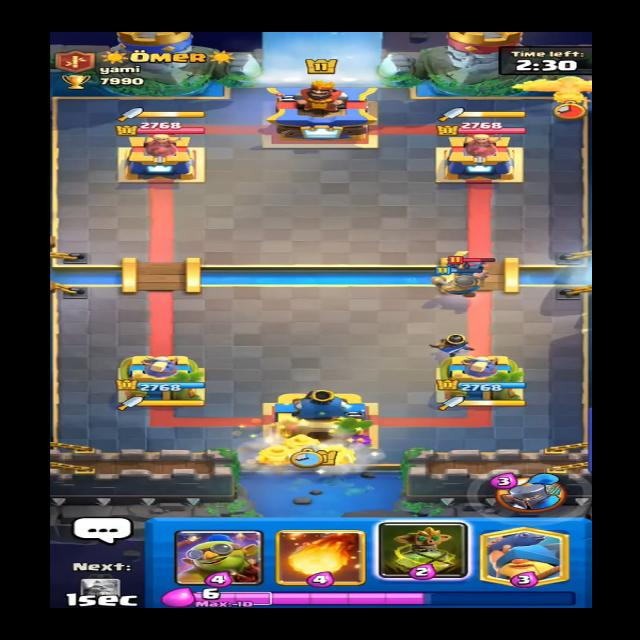mini-pekka: (443, 255, 502, 282)
phoenix: (508, 72, 604, 112)
